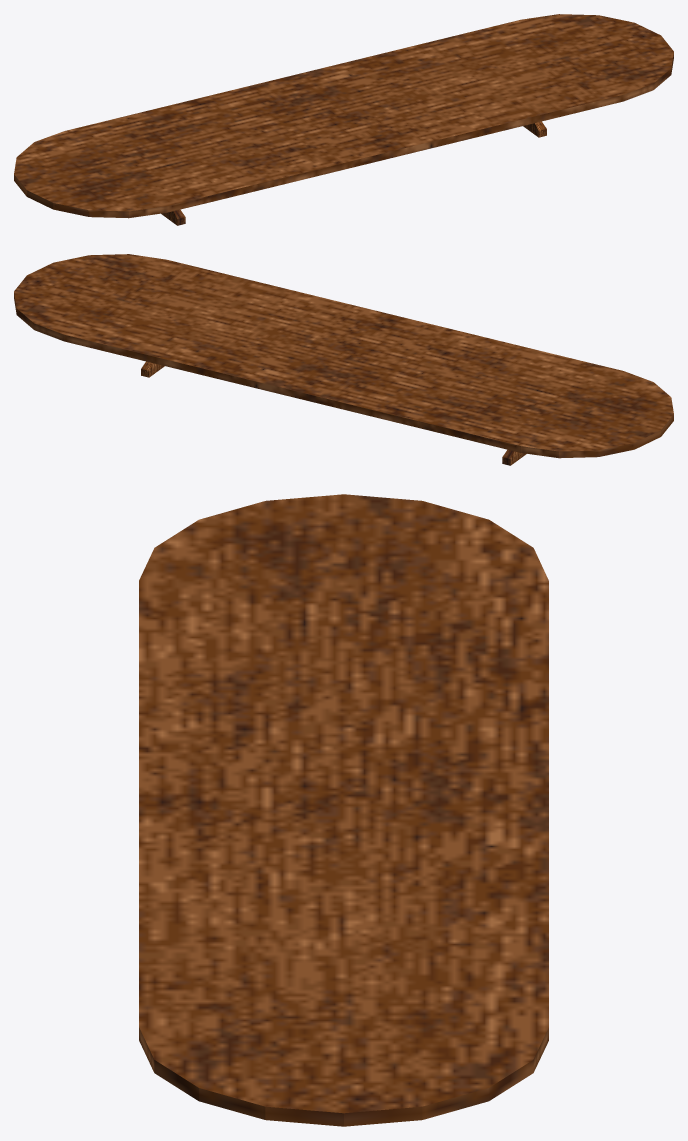
The model's file is SM_Dungeon_Table_Dining.fbx.
3 views of the same model, one above another, from view 1: azimuth 30°, elevation 25°; view 2: azimuth 150°, elevation 25°; view 3: azimuth 270°, elevation 25° (orthographic). The views are drawn at different scales.
Visible parts, largest first — view 1: SM_Dungeon_Table_Dining; view 2: SM_Dungeon_Table_Dining; view 3: SM_Dungeon_Table_Dining.
Part boxes in pixels (box(x1,y1,x2,y2)): SM_Dungeon_Table_Dining: box(14, 14, 673, 225); SM_Dungeon_Table_Dining: box(14, 254, 673, 465); SM_Dungeon_Table_Dining: box(139, 494, 548, 1126).
Size of the model in its own units: 1025 by 84.45 by 287.
